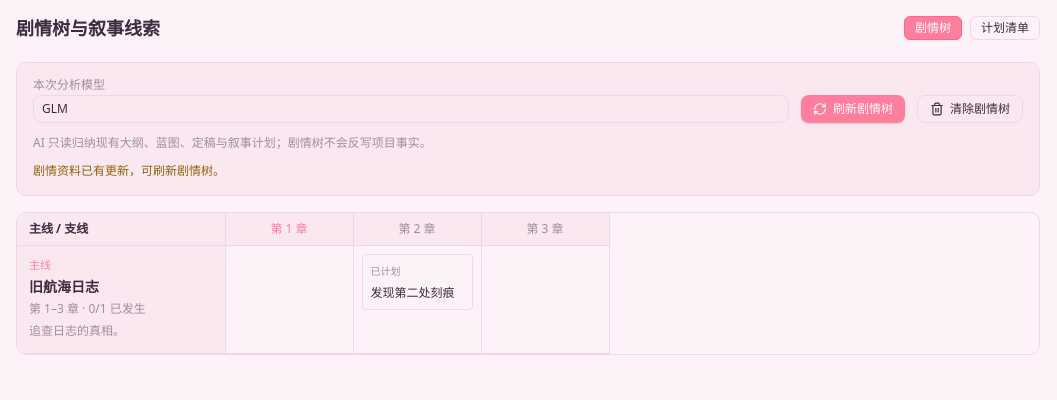
it: NarrativeThreadEditor › explains the complete source limit in zh-CN without replacing the snapshot
Click the button "刷新剧情树". click: (853, 109)
box: 801,95 -> 905,123
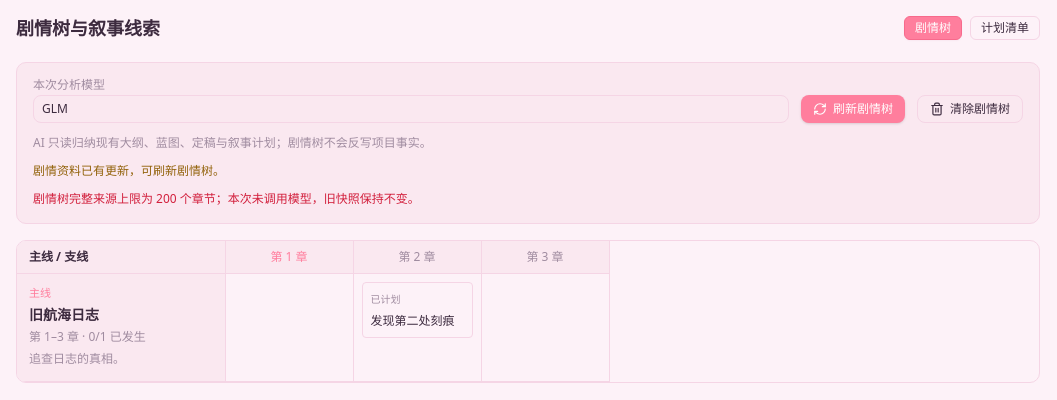
Expected: the text "旧航海日志" is shown, 29,305 -> 99,324
Expected: the text "剧情树完整来源上限为 200 个章节；本次未调用模型，旧快照保持不变。" is shown, 33,190 -> 420,207
